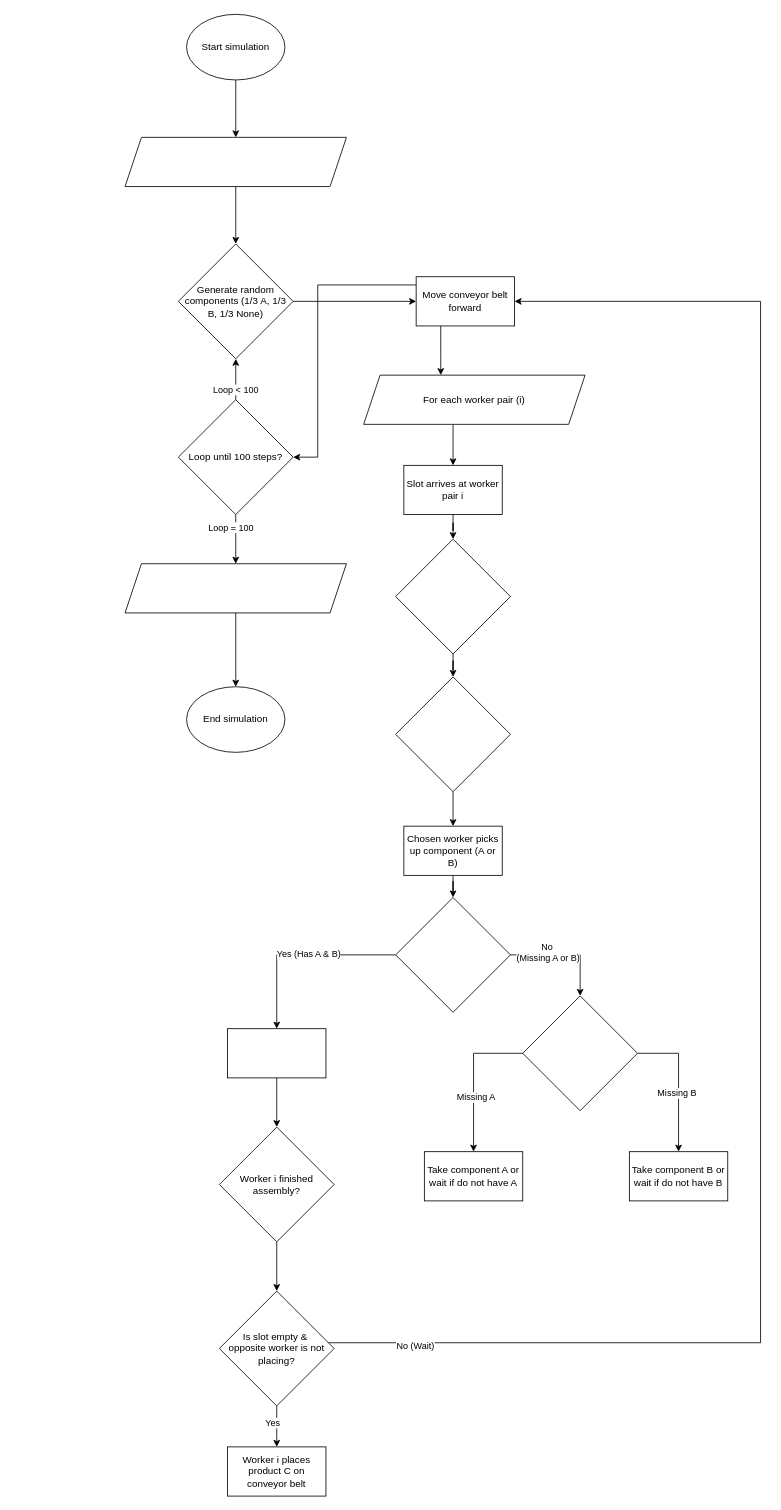
This 781x1510 diagram has some shape labels left out. Each missing label, with the box of its shape:
Choose worker based on their current holding items: (395, 676, 510, 792)
Compute Results: - Finished products - Unused components (A & B): (124, 563, 346, 613)
Does worker i have both A & B?: (395, 897, 510, 1012)
Initialise conveyor belt & worker pairs: (124, 137, 346, 187)
Is slot empty?: (395, 538, 510, 654)
Which component is missing?: (522, 995, 638, 1111)
Worker i assembles product C (4 steps): (227, 1028, 326, 1078)
